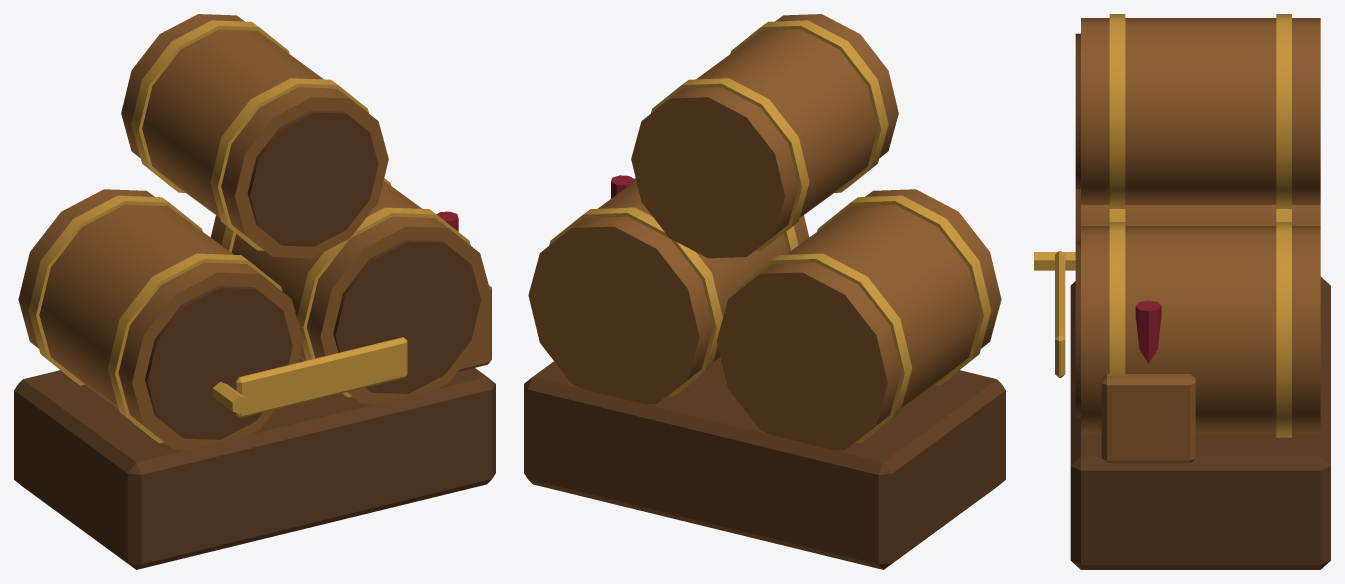
Rendered from PR_Station_Yillanmis_T2.fbx.
The picture shows the model from 3 angles, left to right: view 1: azimuth 30°, elevation 25°; view 2: azimuth 150°, elevation 25°; view 3: azimuth 270°, elevation 25°; orthographic projection. The views are drawn at different scales.
Visible parts, largest first — view 1: PR_Station_Yillanmis_T2; view 2: PR_Station_Yillanmis_T2; view 3: PR_Station_Yillanmis_T2.
Part boxes in pixels (x1,y1,x2,y2): PR_Station_Yillanmis_T2: [14, 14, 495, 569]; PR_Station_Yillanmis_T2: [524, 14, 1005, 569]; PR_Station_Yillanmis_T2: [1034, 14, 1330, 569].
Size of the model in its own units: 0.88 by 0.968 by 0.57.
1 material, 1 textured.
